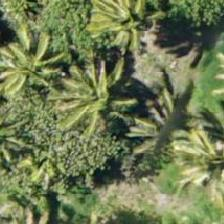coconut_tree: (53, 59, 143, 149), (71, 0, 161, 72), (168, 104, 223, 194), (0, 27, 50, 117)
